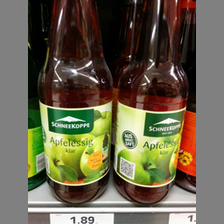vinegar: (35, 1, 112, 204), (117, 1, 190, 207)
